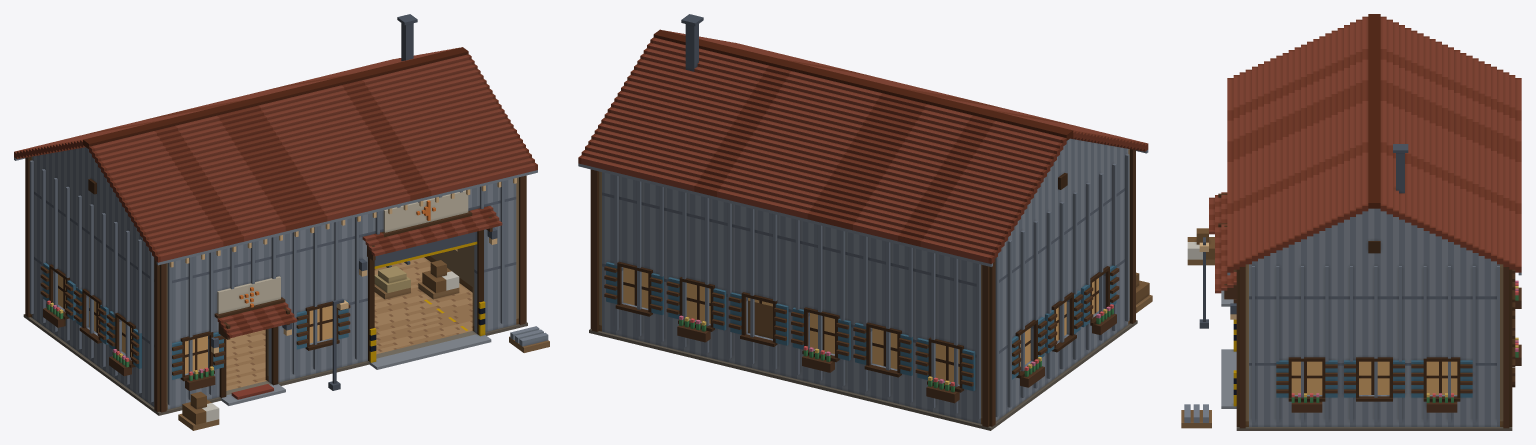
The model's file is factory_e1_l1.glb.
The picture shows the model from 3 angles, left to right: view 1: azimuth 30°, elevation 25°; view 2: azimuth 150°, elevation 25°; view 3: azimuth 270°, elevation 25°; orthographic projection. The views are drawn at different scales.
Visible parts, largest first — view 1: CutRoof, CutPZ, Base, CutNX, CutNZ; view 2: CutRoof, CutNZ, CutNX, Base, CutPZ; view 3: CutRoof, CutPX, Base, CutPZ, CutNZ.
Boxes of the visible parts, x1,y1,x2,y2 form: CutRoof: (14,14,537,267); CutPZ: (154,175,526,387); Base: (23,251,549,430); CutNX: (29,158,154,382); CutNZ: (25,157,32,292); CutRoof: (578,14,1148,266); CutNZ: (590,169,995,400); CutNX: (995,150,1129,396); Base: (589,272,1152,430); CutPZ: (1128,149,1135,297); CutRoof: (1227,14,1521,275); CutPX: (1249,263,1499,406); Base: (1181,228,1521,430); CutPZ: (1209,192,1248,403); CutNZ: (1500,264,1521,403).
Size of the model in its own units: 14.8 by 9.5 by 11.1.
